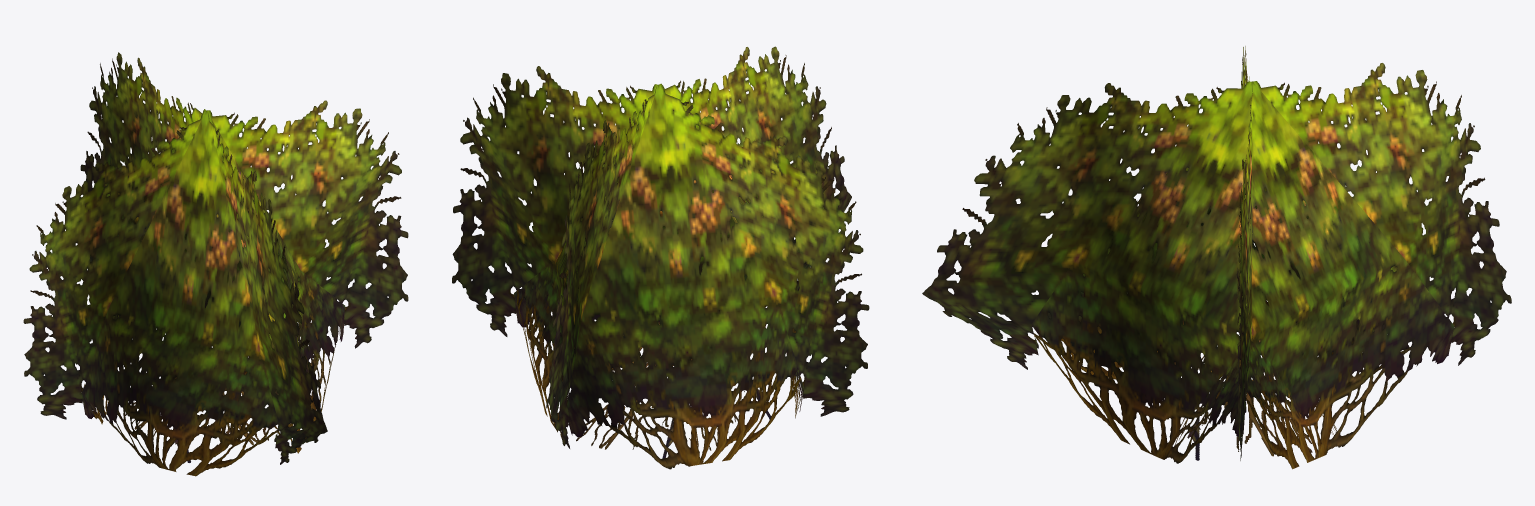
Rendered from elwynnbush07.obj.
3 views of the same model, side by side, from view 1: azimuth 30°, elevation 25°; view 2: azimuth 150°, elevation 25°; view 3: azimuth 270°, elevation 25° (orthographic). The views are drawn at different scales.
Parts seen in each view (by area): view 1: elwynnbush07; view 2: elwynnbush07; view 3: elwynnbush07.
Part boxes in pixels (x1,y1,x2,y2): elwynnbush07: (23, 52, 408, 476); elwynnbush07: (452, 46, 869, 469); elwynnbush07: (922, 46, 1511, 469).
Size of the model in its own units: 4.77 by 3.83 by 5.69.
1 material, 1 textured.
